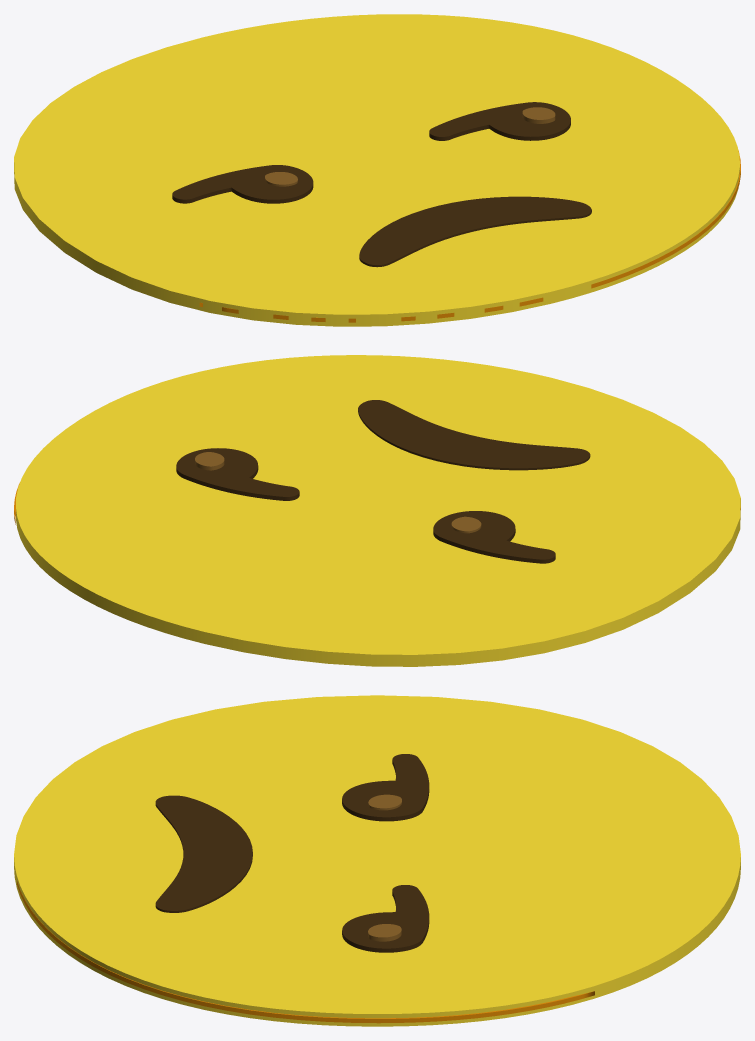
Rendered from emoji_u1f612.glb.
The picture shows the model from 3 angles, top to bottom: view 1: azimuth 30°, elevation 25°; view 2: azimuth 150°, elevation 25°; view 3: azimuth 270°, elevation 25°; orthographic projection. The views are drawn at different scales.
Parts seen in each view (by area): view 1: emoji_u1f612; view 2: emoji_u1f612; view 3: emoji_u1f612.
Boxes of the visible parts, x1,y1,x2,y2 form: emoji_u1f612: [14, 14, 740, 326]; emoji_u1f612: [14, 355, 740, 666]; emoji_u1f612: [14, 695, 740, 1026].
Bounding box in the file's own units: 0.0327 × 0.0014 × 0.0315.
